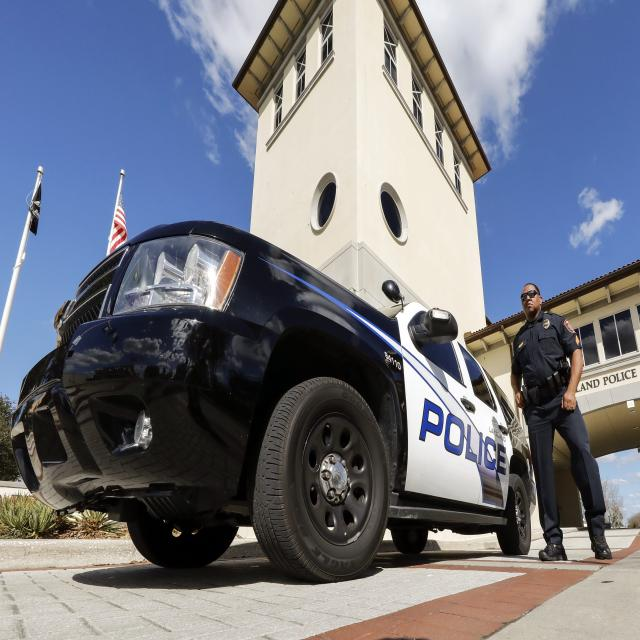police: (491, 260, 624, 567)
